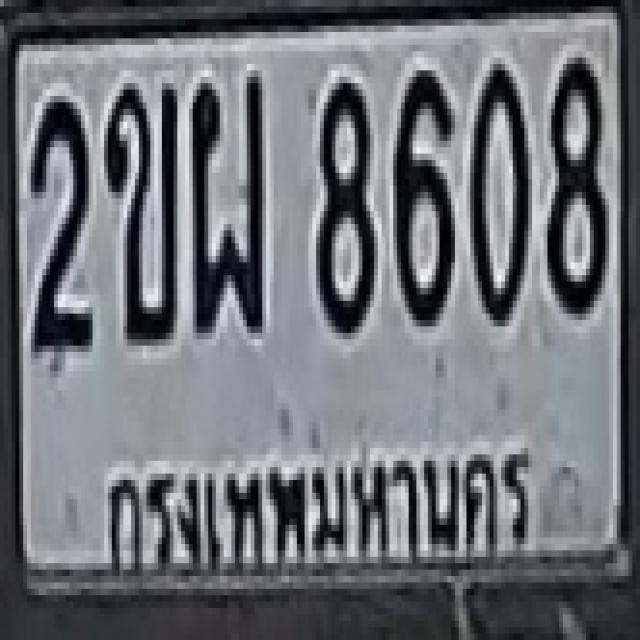-: (189, 70, 262, 333), (104, 77, 174, 339)
0: (467, 58, 528, 320)
2: (27, 96, 89, 352)
6: (391, 64, 453, 320)
8: (544, 51, 605, 307), (314, 77, 372, 326)
BKK: (91, 443, 543, 596)
